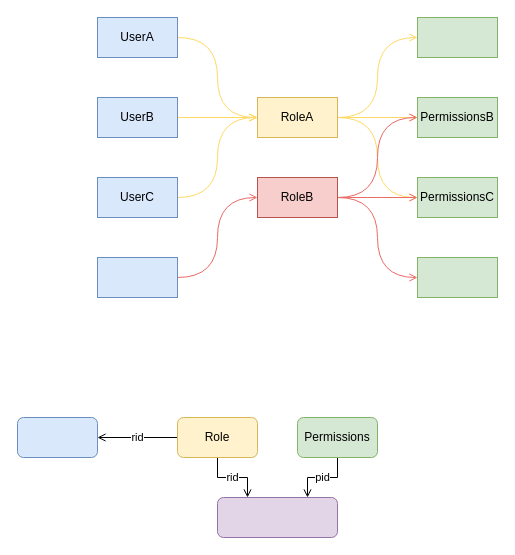
Some shapes in this 515 by 555 pixel diagram are drawn without their labels. Here are the shapes that lost their labels. From the top down, the box of each, then its label:
(416, 16, 498, 58): PermissionsA
(96, 256, 178, 298): UserD
(416, 256, 498, 298): PermissionsD
(16, 416, 98, 458): User
(216, 496, 338, 538): Role_Permissions
